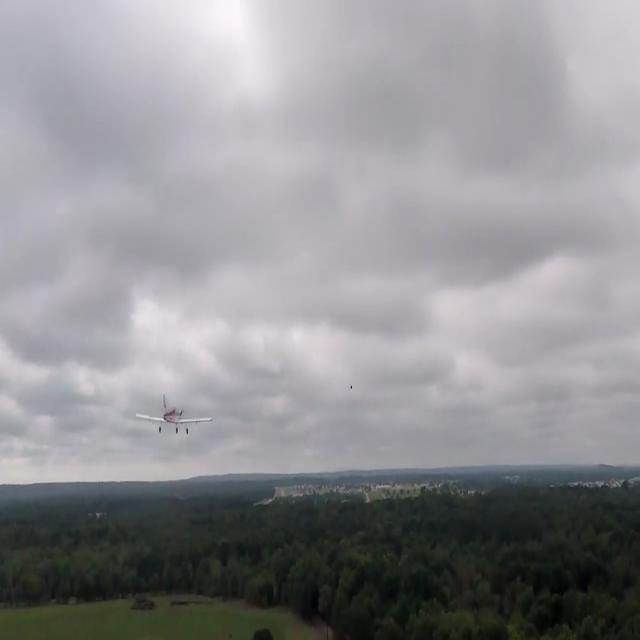iha: (172, 392, 177, 438)
